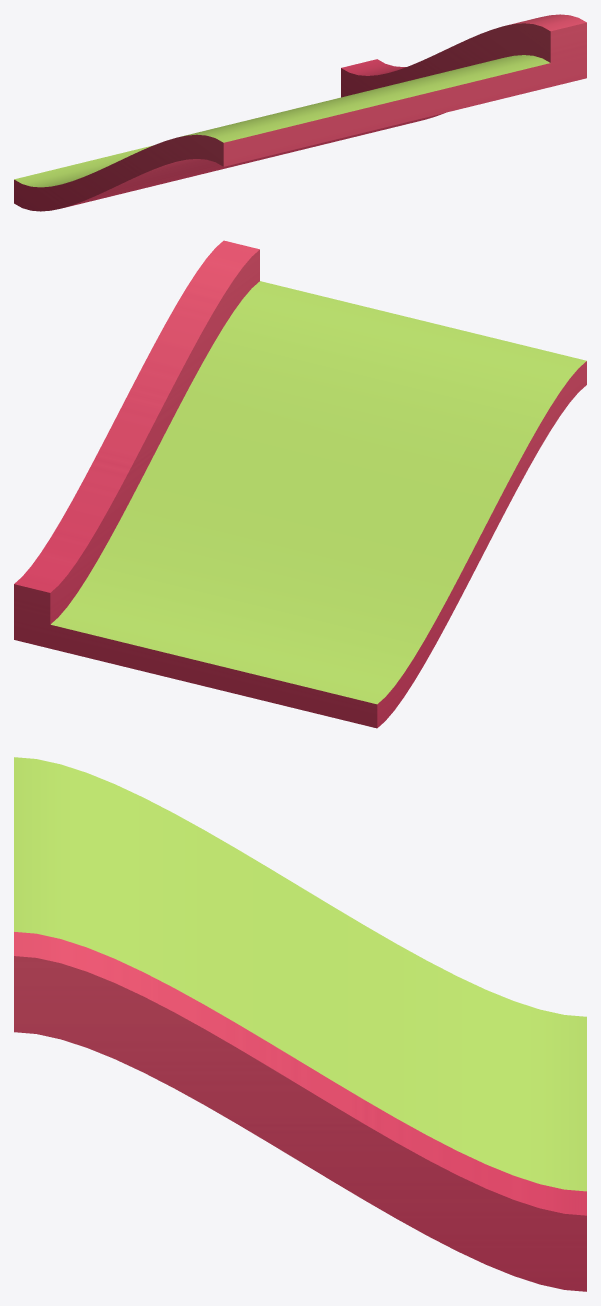
The model's file is ramp-side.fbx.
The picture shows the model from 3 angles, top to bottom: view 1: azimuth 30°, elevation 25°; view 2: azimuth 150°, elevation 25°; view 3: azimuth 270°, elevation 25°; orthographic projection. The views are drawn at different scales.
Visible parts, largest first — view 1: ramp_side; view 2: ramp_side; view 3: ramp_side.
Part boxes in pixels (box(x1,y1,x2,y2)): ramp_side: box(14, 14, 586, 211); ramp_side: box(14, 240, 586, 728); ramp_side: box(14, 757, 586, 1291).
Size of the model in its own units: 99.99 by 64.67 by 99.99.
1 material, 1 textured.
